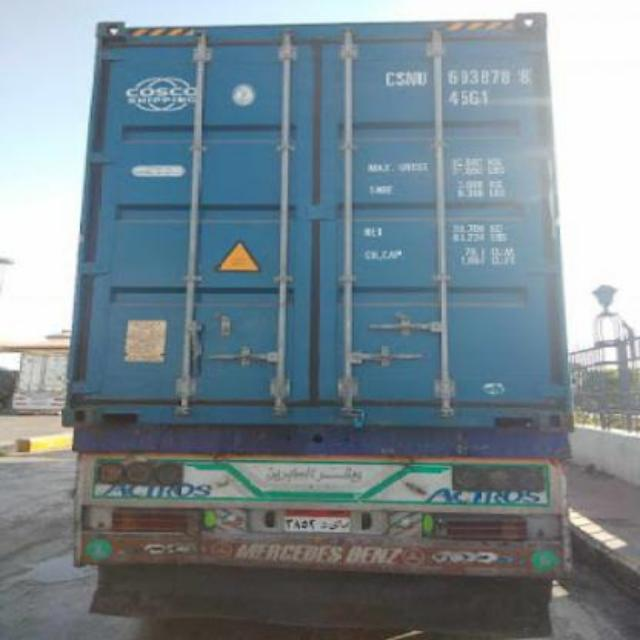3: (470, 67, 480, 85)
6: (446, 67, 458, 83)
7: (488, 67, 502, 83)
8: (502, 67, 516, 87), (478, 65, 490, 85), (520, 67, 534, 83)
9: (458, 67, 470, 85)
C: (384, 69, 396, 85)
M: (406, 69, 418, 87)
S: (394, 69, 406, 85)
U: (416, 69, 428, 87)
